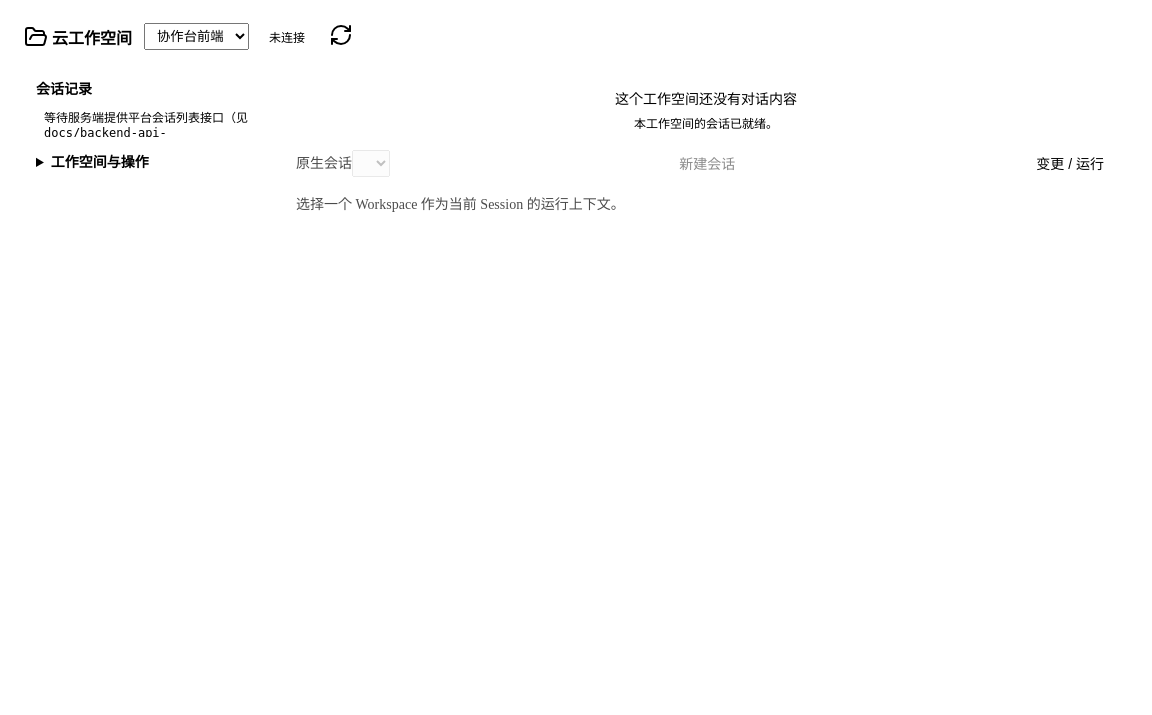
it: 2-4 审批卡、接管与证据抽屉 › 权限拒绝（FORBIDDEN）→ 证据抽屉呈现拒绝语义与下一步动作
Step 1. Click the button with aria-label "打开变更与运行面板" → (1070, 163), box [1024,149,1116,177]
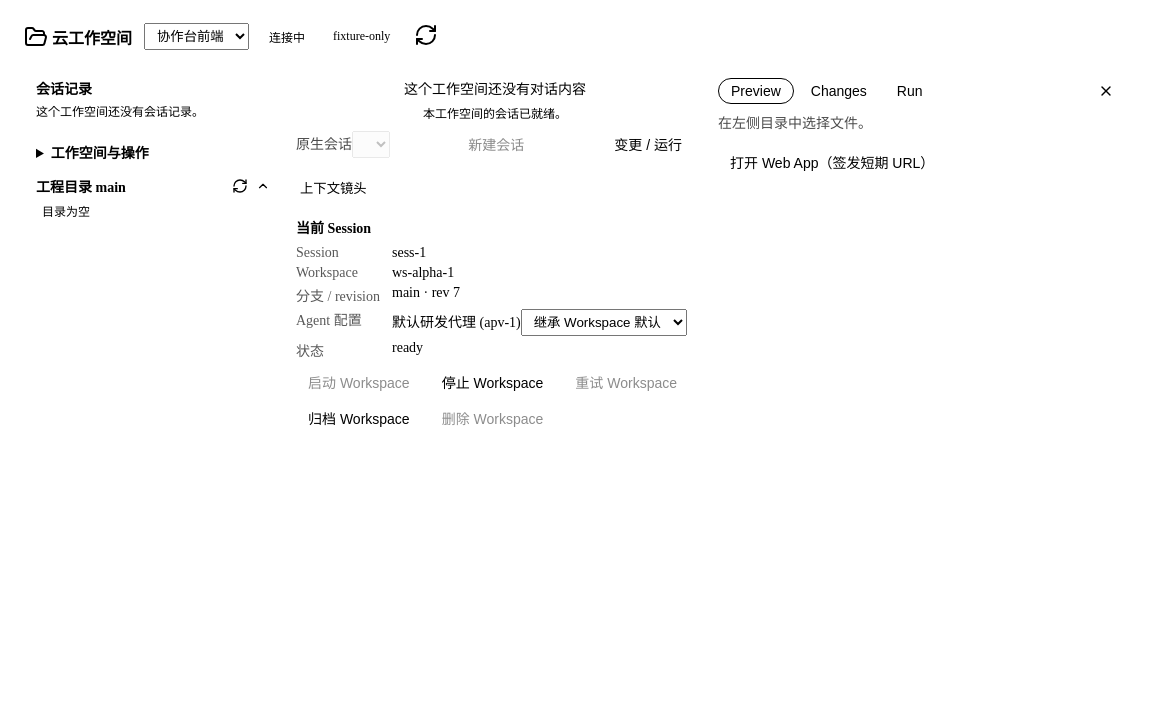
Step 2. Click the tab "Run" → (910, 91), box [884,78,936,104]
(page scrolled)
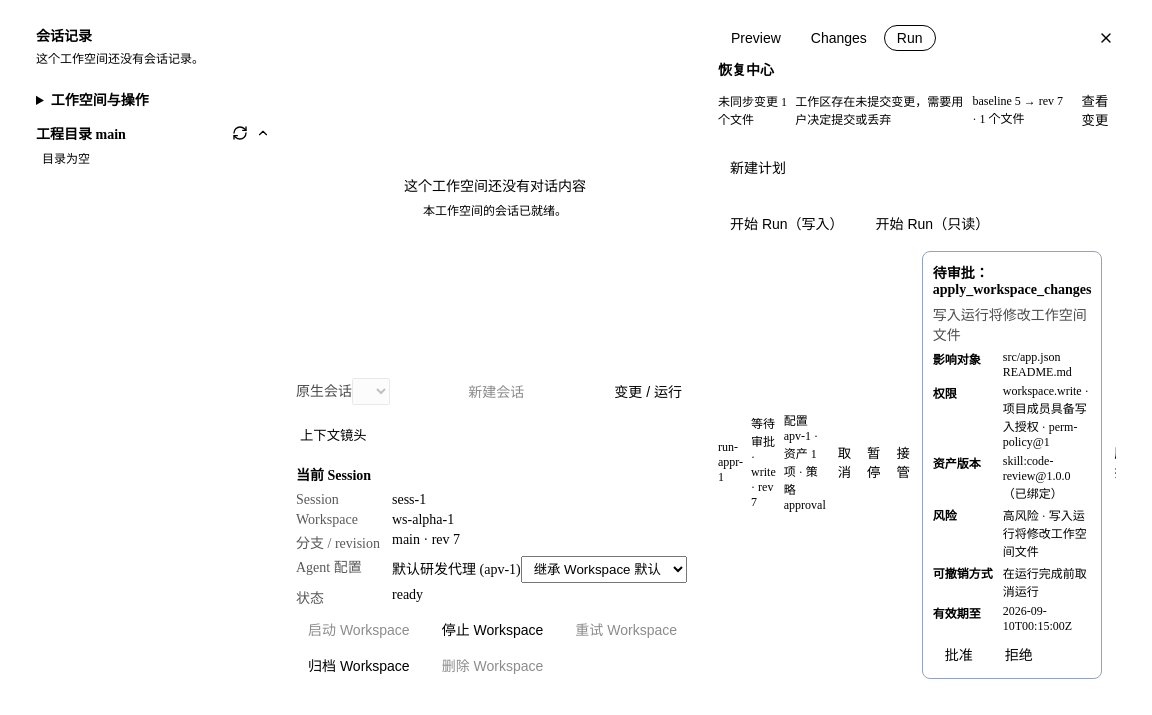
Step 3. Click the button "批准" → (959, 654), box [933,640,985,668]
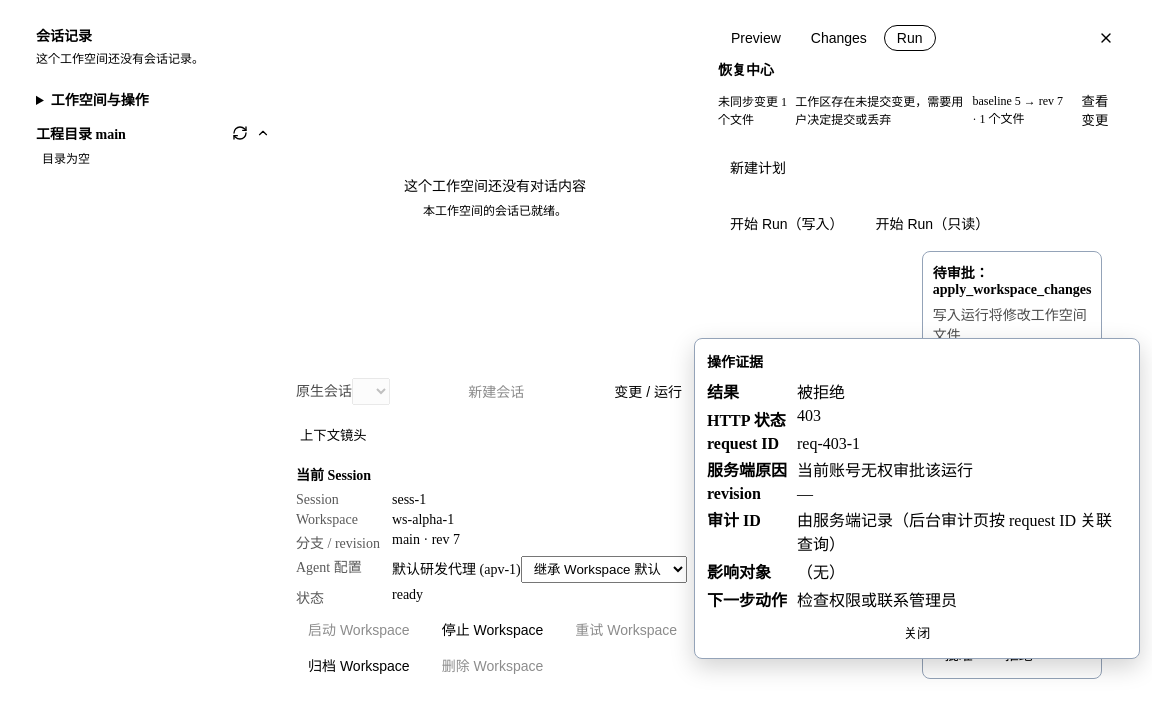
Check: the element "操作证据" shows "403", box [797,407,821,424]
Check: the element "操作证据" shows "当前账号无权审批该运行", box [797,462,973,479]
Check: the element "操作证据" shows "req-403-1", box [797,435,860,452]
